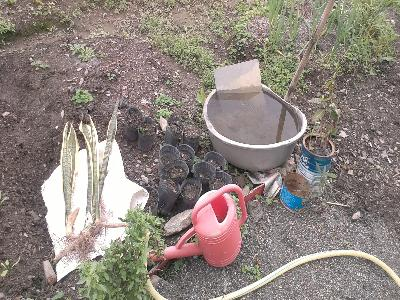bowl: (203, 82, 308, 172), (281, 172, 312, 213)
